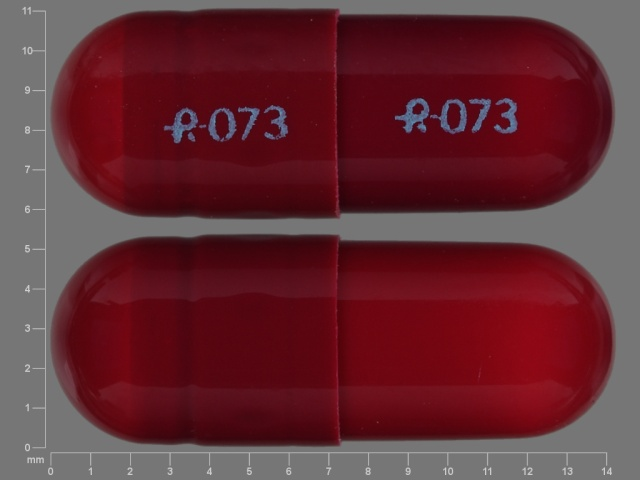R-073: (161, 102, 293, 150), (392, 94, 523, 137)
capsule: (49, 5, 617, 223), (50, 228, 610, 447)
